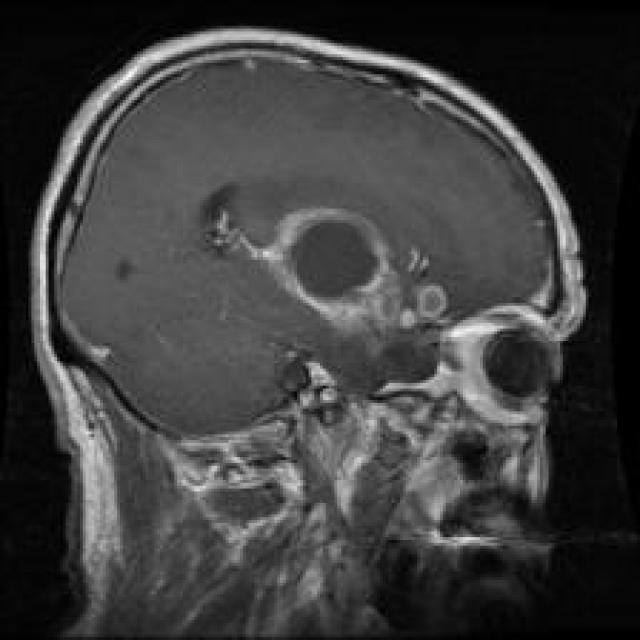glioma_tumor: (198, 179, 458, 353)
